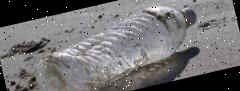plastic: (24, 0, 208, 91)
